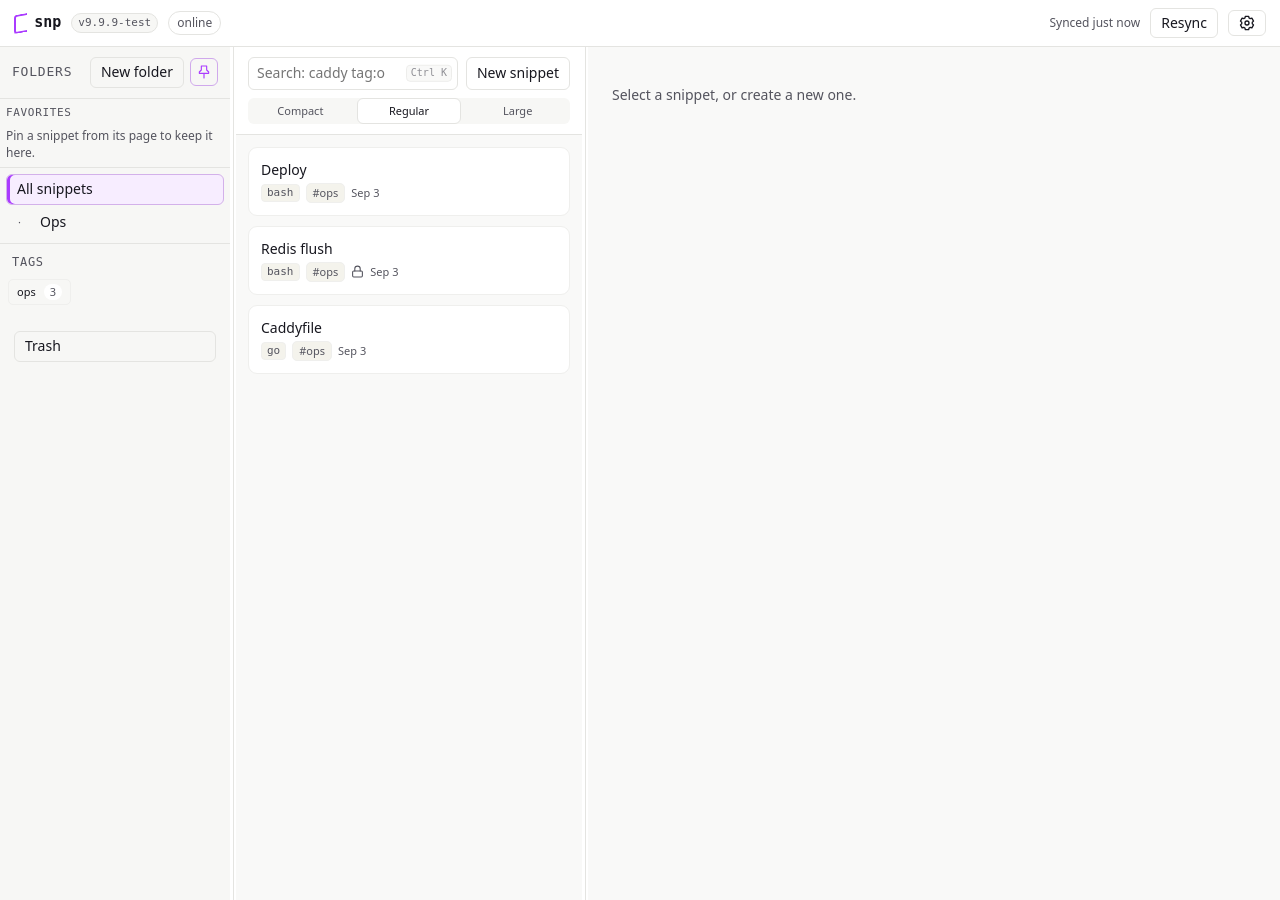
Test: App › search filters the list locally
Expected: the text "Caddyfile" is shown, [261,318,322,338]
In the search field named "Search snippets": (353,73) [248,57,458,90], type "redis"
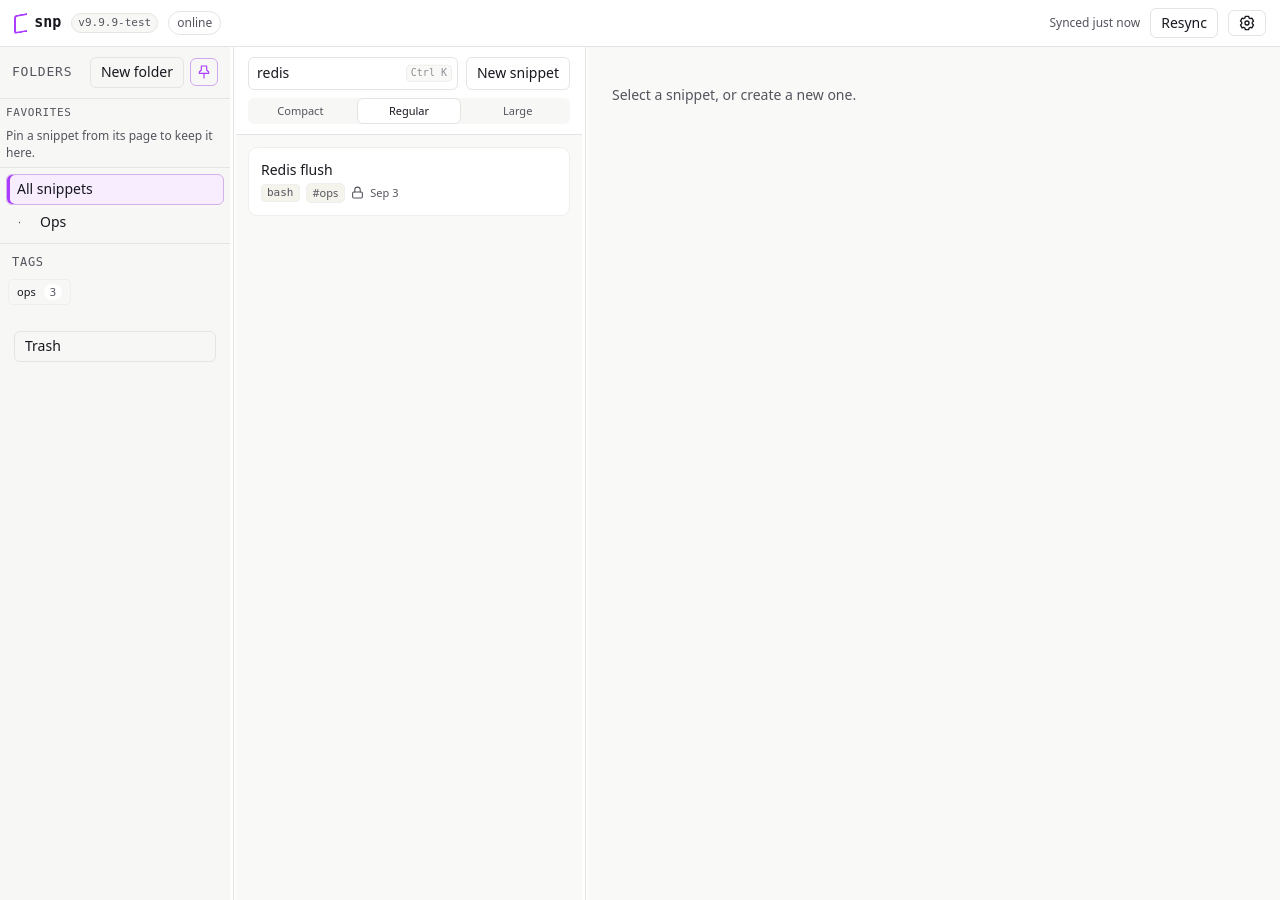
Expected: the text "Redis flush" is shown, [261,160,333,180]
Expected: the button "Caddyfile" is gone
